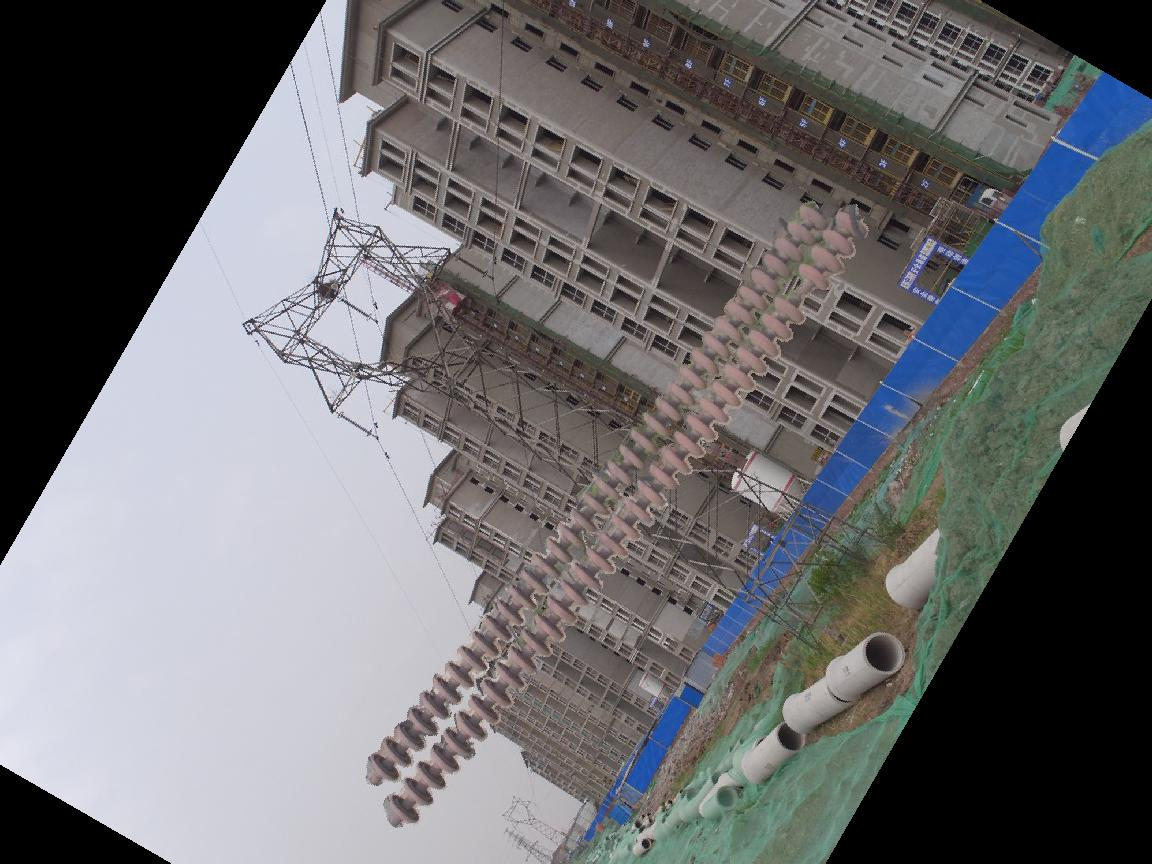insulator: (360, 194, 872, 835)
insulator_stringdrop: (772, 260, 833, 325)
